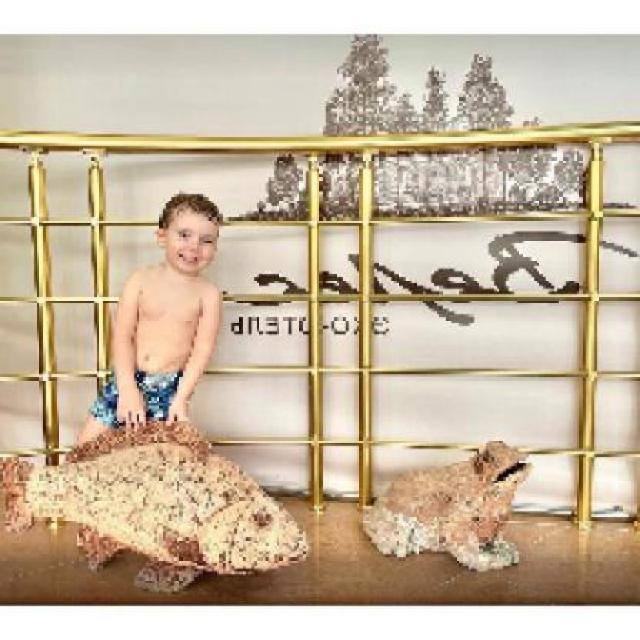child: (74, 187, 223, 447)
